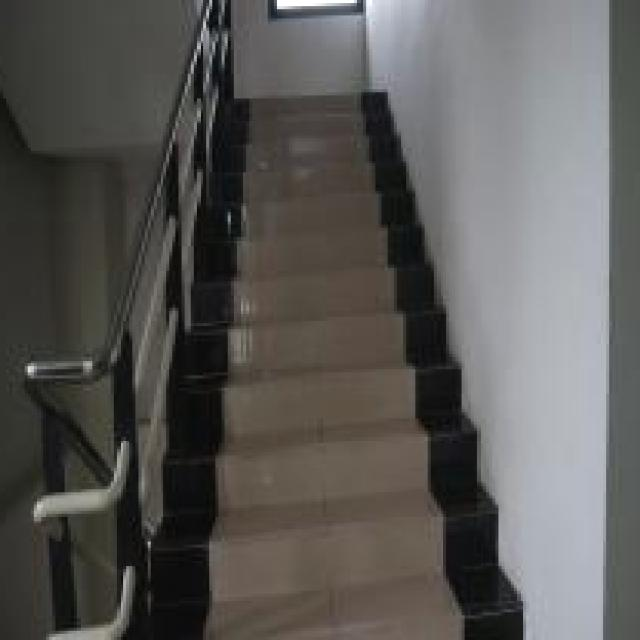upstair: (226, 81, 447, 640)
